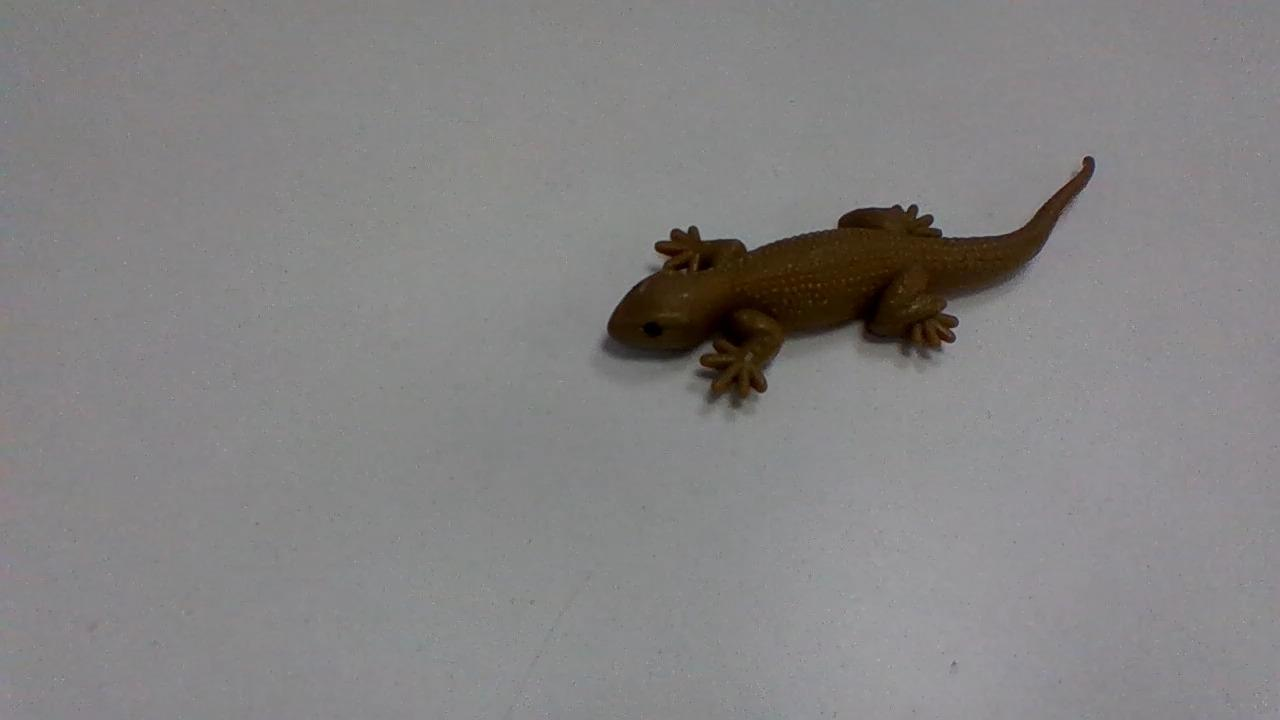lizard: (606, 156, 1094, 410)
